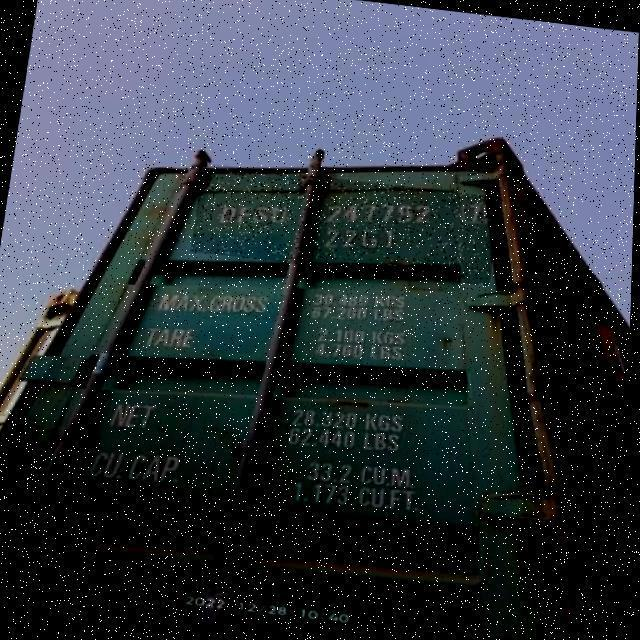container_number_h: (190, 162, 504, 288)
